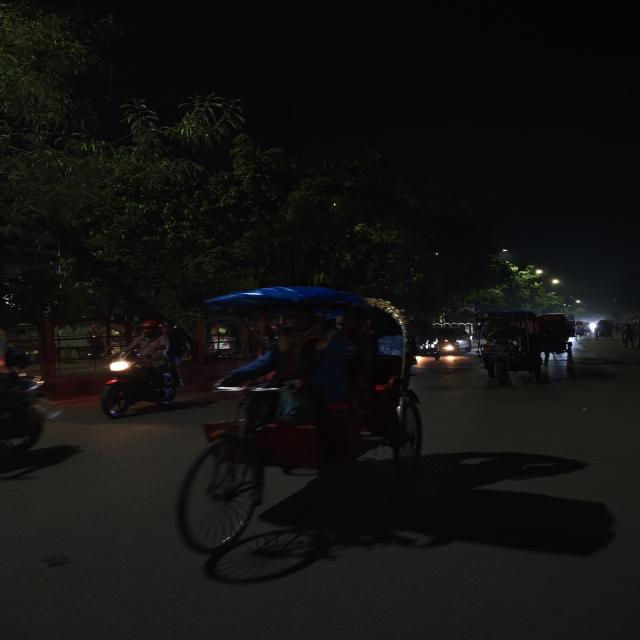car: (431, 324, 477, 355)
motorcycle: (83, 318, 195, 425)
pedestrian: (619, 320, 638, 350)
rickshaw: (154, 292, 436, 548), (470, 311, 543, 386), (594, 318, 615, 342)
